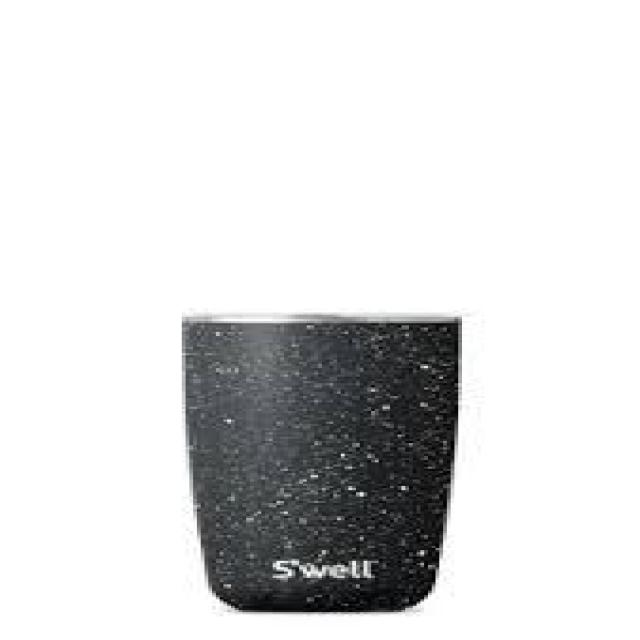bottle: (171, 310, 474, 621)
